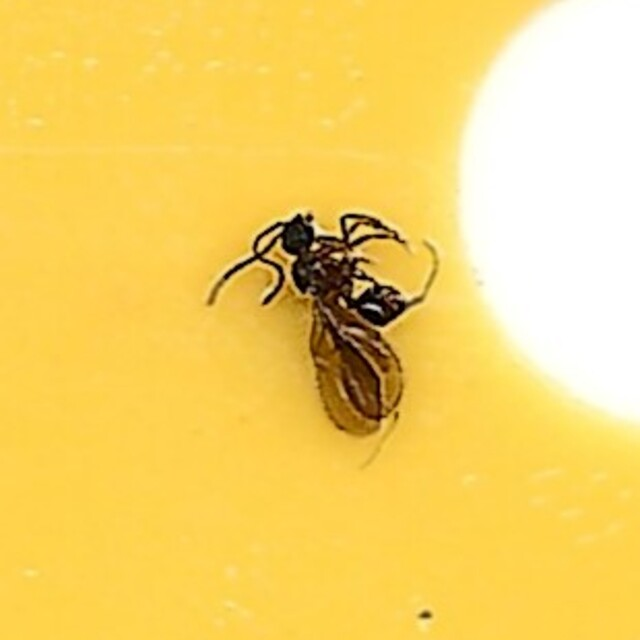Hymenoptera: (206, 206, 434, 434)
